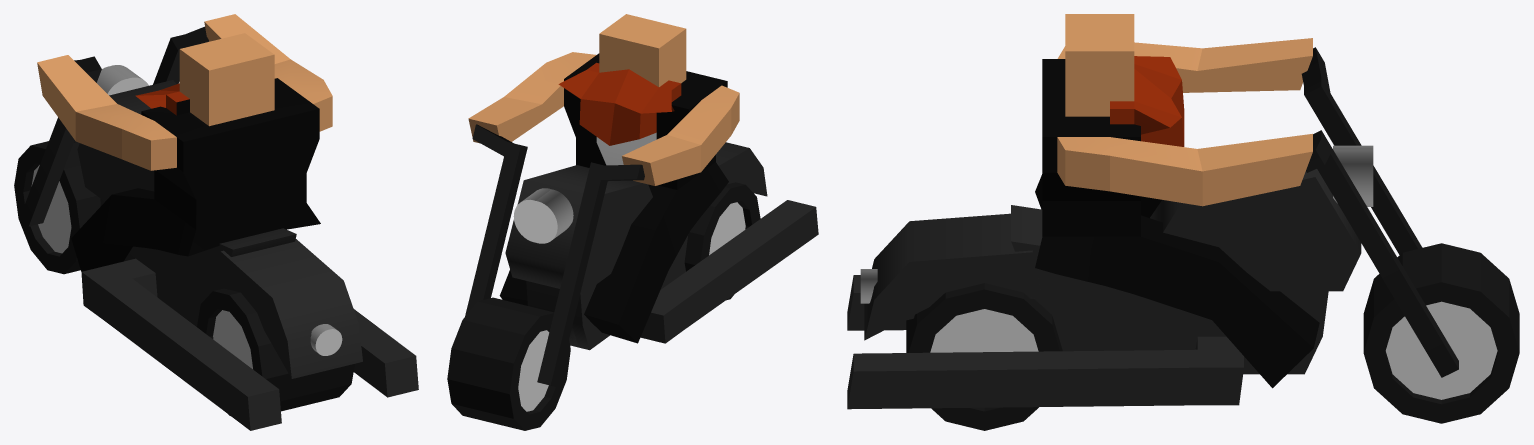
File: bike.obj
3 renders of one model, left to right at view 1: azimuth 30°, elevation 25°; view 2: azimuth 150°, elevation 25°; view 3: azimuth 270°, elevation 25°, orthographic. The views are drawn at different scales.
Parts seen in each view (by area): view 1: Cube, Cube_3, Cube.2, Wheel_2, Wheel, Cube.4, Cube_2, Cube.3, headlights.1, headlights; view 2: Cube, Wheel, Cube_3, Cube.4, Cube_2, Wheel_2, headlights.1, Cube.2, Cube_1; view 3: Cube, Cube_3, Wheel, Cube_2, Cube.2, Cube.4, Wheel_2, Cube.3, headlights.1.
Part boxes in pixels (x1=…): Cube: x1=37, y1=14, x2=332, y2=271; Cube_3: x1=81, y1=198, x2=418, y2=430; Cube.2: x1=216, y1=239, x2=362, y2=378; Wheel_2: x1=197, y1=288, x2=354, y2=415; Wheel: x1=14, y1=140, x2=100, y2=274; Cube.4: x1=21, y1=26, x2=208, y2=226; Cube_2: x1=77, y1=80, x2=176, y2=201; Cube.3: x1=191, y1=228, x2=296, y2=280; headlights.1: x1=97, y1=65, x2=148, y2=95; headlights: x1=310, y1=324, x2=342, y2=355; Cube: x1=468, y1=14, x2=739, y2=343; Wheel: x1=447, y1=297, x2=570, y2=430; Cube_3: x1=526, y1=200, x2=818, y2=350; Cube.4: x1=465, y1=124, x2=644, y2=386; Cube_2: x1=505, y1=165, x2=652, y2=294; Wheel_2: x1=684, y1=182, x2=760, y2=300; headlights.1: x1=513, y1=188, x2=573, y2=243; Cube.2: x1=716, y1=142, x2=767, y2=196; Cube_1: x1=629, y1=42, x2=658, y2=112; Cube: x1=1035, y1=14, x2=1319, y2=388; Cube_3: x1=847, y1=275, x2=1328, y2=409; Wheel: x1=1363, y1=243, x2=1519, y2=423; Cube_2: x1=1150, y1=169, x2=1361, y2=291; Cube.2: x1=864, y1=213, x2=1042, y2=340; Cube.4: x1=1301, y1=47, x2=1458, y2=377; Wheel_2: x1=906, y1=283, x2=1062, y2=430; Cube.3: x1=1011, y1=205, x2=1103, y2=293; headlights.1: x1=1333, y1=145, x2=1373, y2=206.
Size of the model in its own units: 2.95 by 4.15 by 6.8.
